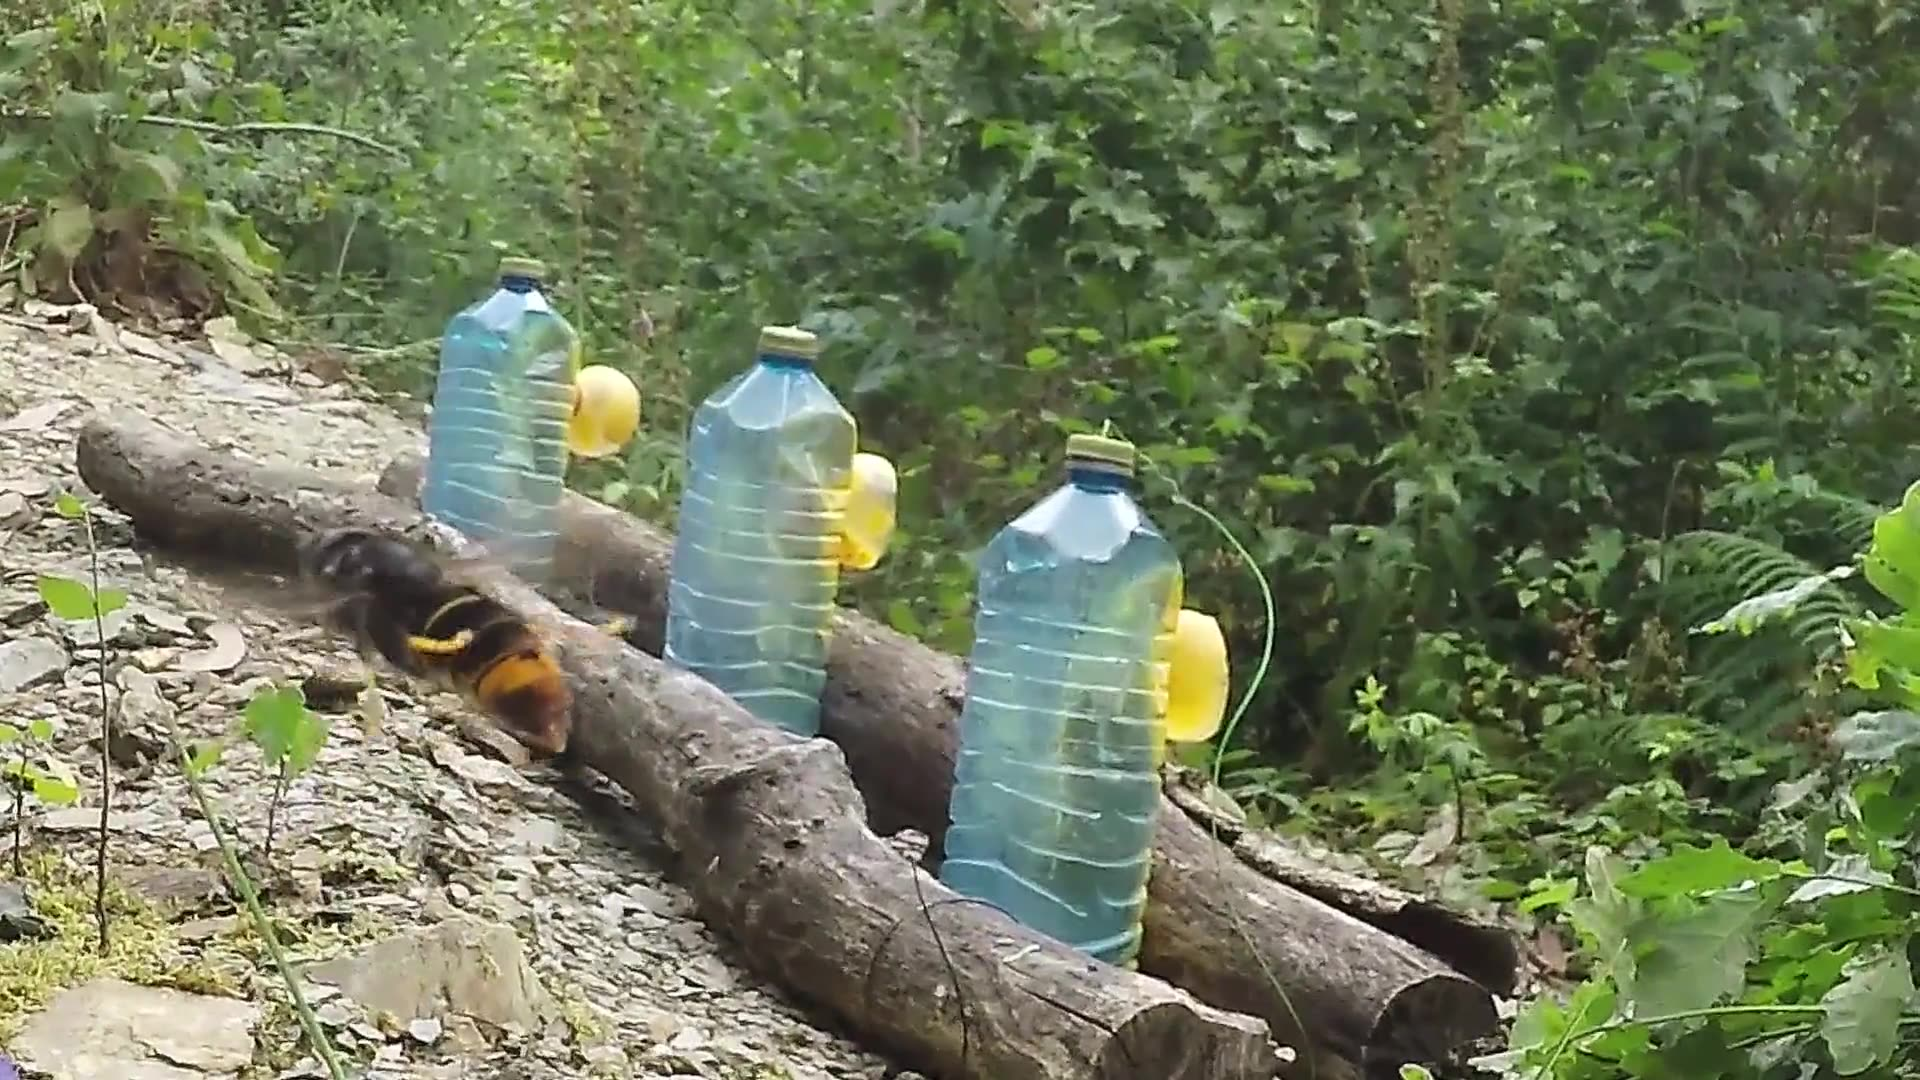hornet: (284, 517, 582, 765)
